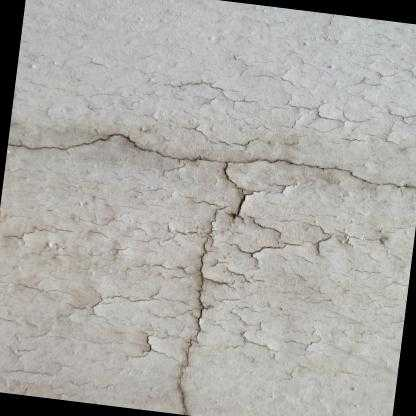crack: (6, 129, 416, 227), (171, 201, 229, 415)
